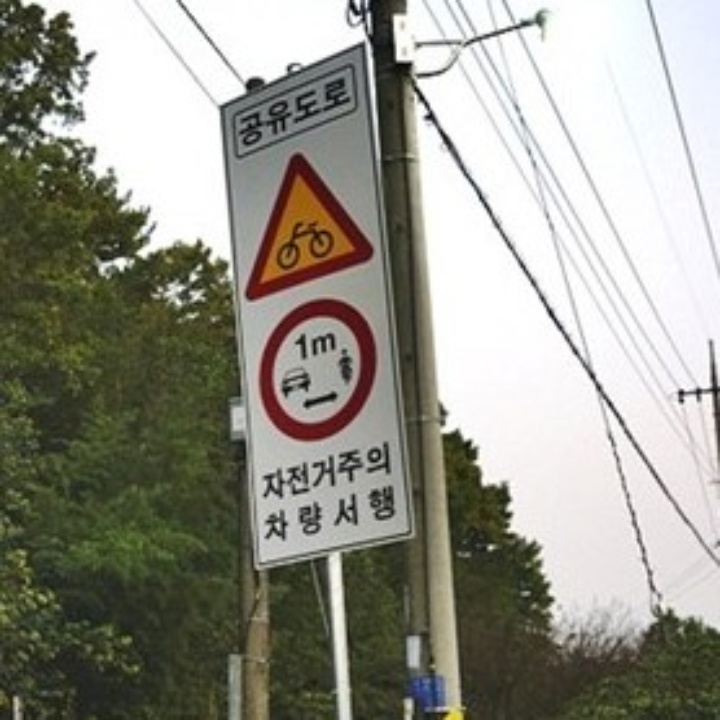bicycle: (246, 148, 374, 298)
